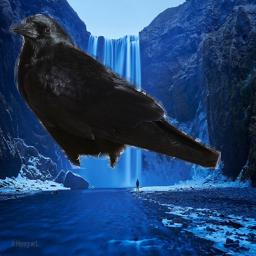Crow: (9, 14, 221, 169)
